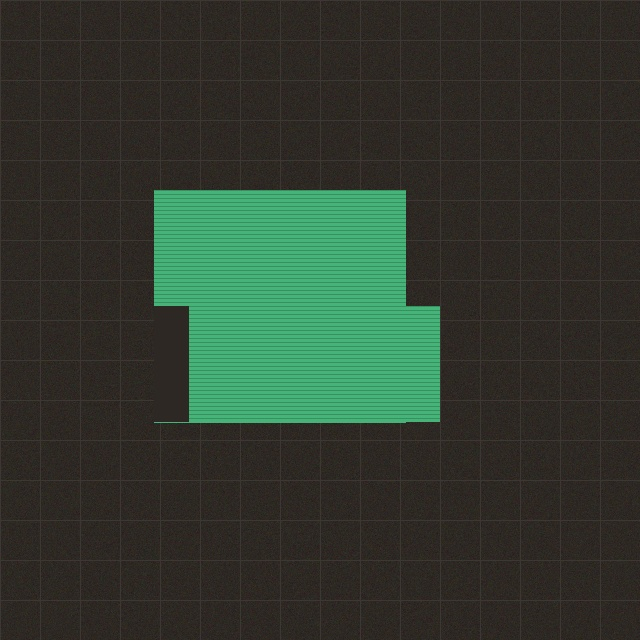layer_shift: (144, 286, 450, 326)
